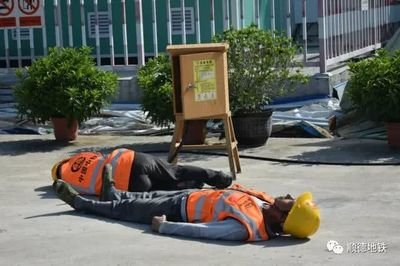fall: (49, 139, 230, 205)
